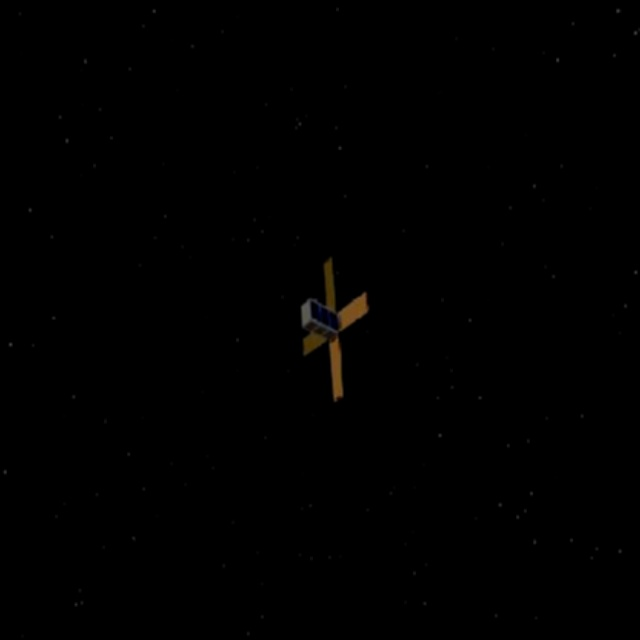satellite: (293, 244, 391, 407)
